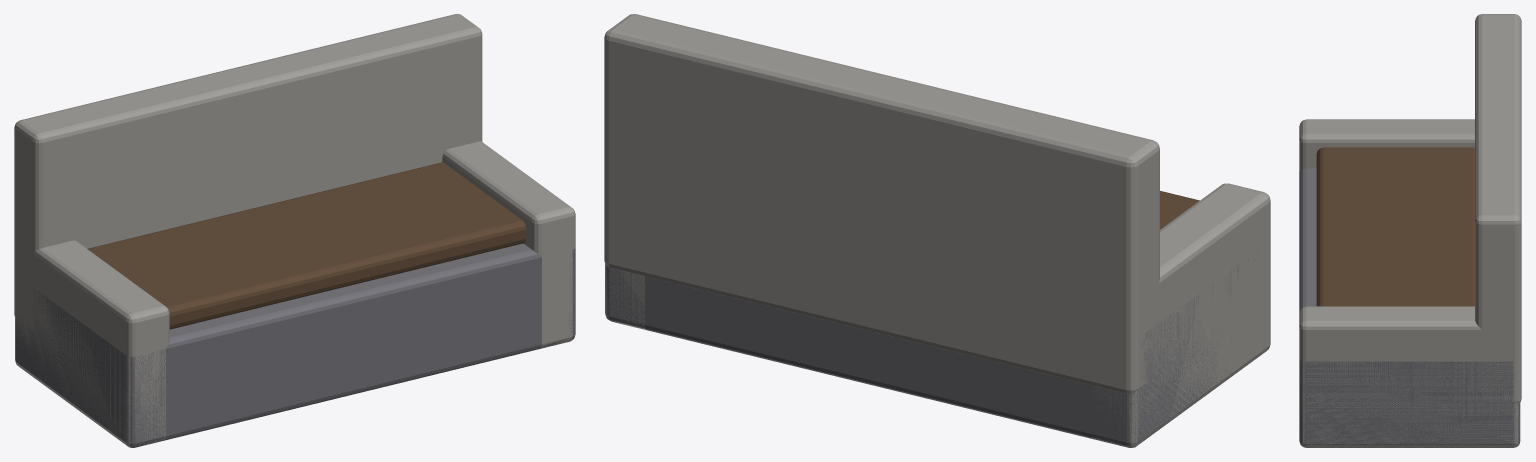
Rendered from chaise_stone_couch.glb.
The picture shows the model from 3 angles, left to right: view 1: azimuth 30°, elevation 25°; view 2: azimuth 150°, elevation 25°; view 3: azimuth 270°, elevation 25°; orthographic projection. The views are drawn at different scales.
Visible parts, largest first — view 1: GD_chaise_stone_couch__m2, GD_chaise_stone_couch__m0, GD_chaise_stone_couch__m1; view 2: GD_chaise_stone_couch__m2, GD_chaise_stone_couch__m0, GD_chaise_stone_couch__m1; view 3: GD_chaise_stone_couch__m2, GD_chaise_stone_couch__m1, GD_chaise_stone_couch__m0.
Boxes of the visible parts, bbox=[...] form: GD_chaise_stone_couch__m2: bbox=[14, 14, 575, 447]; GD_chaise_stone_couch__m0: bbox=[16, 243, 575, 447]; GD_chaise_stone_couch__m1: bbox=[87, 162, 526, 329]; GD_chaise_stone_couch__m2: bbox=[604, 14, 1270, 447]; GD_chaise_stone_couch__m0: bbox=[606, 249, 1268, 447]; GD_chaise_stone_couch__m1: bbox=[1160, 191, 1199, 229]; GD_chaise_stone_couch__m2: bbox=[1299, 14, 1521, 447]; GD_chaise_stone_couch__m1: bbox=[1316, 147, 1474, 306]; GD_chaise_stone_couch__m0: bbox=[1299, 168, 1520, 447].
Bounding box in the file's own units: 2.1 × 1.1 × 0.955.
